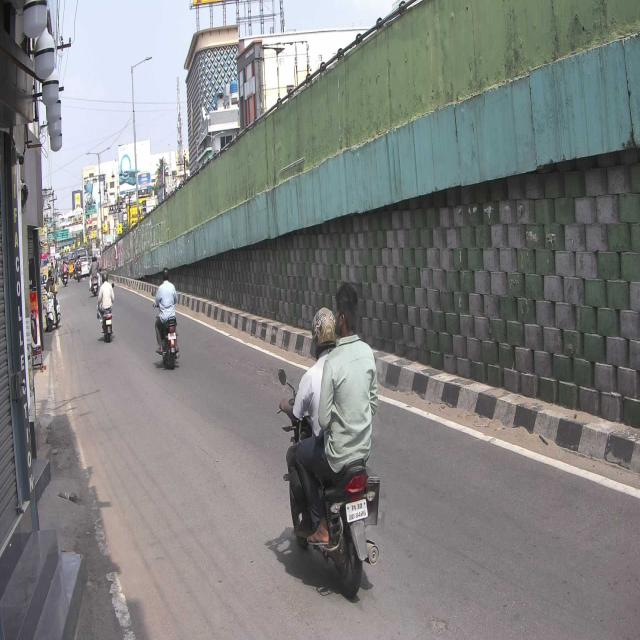double_rider: (277, 275, 380, 598)
